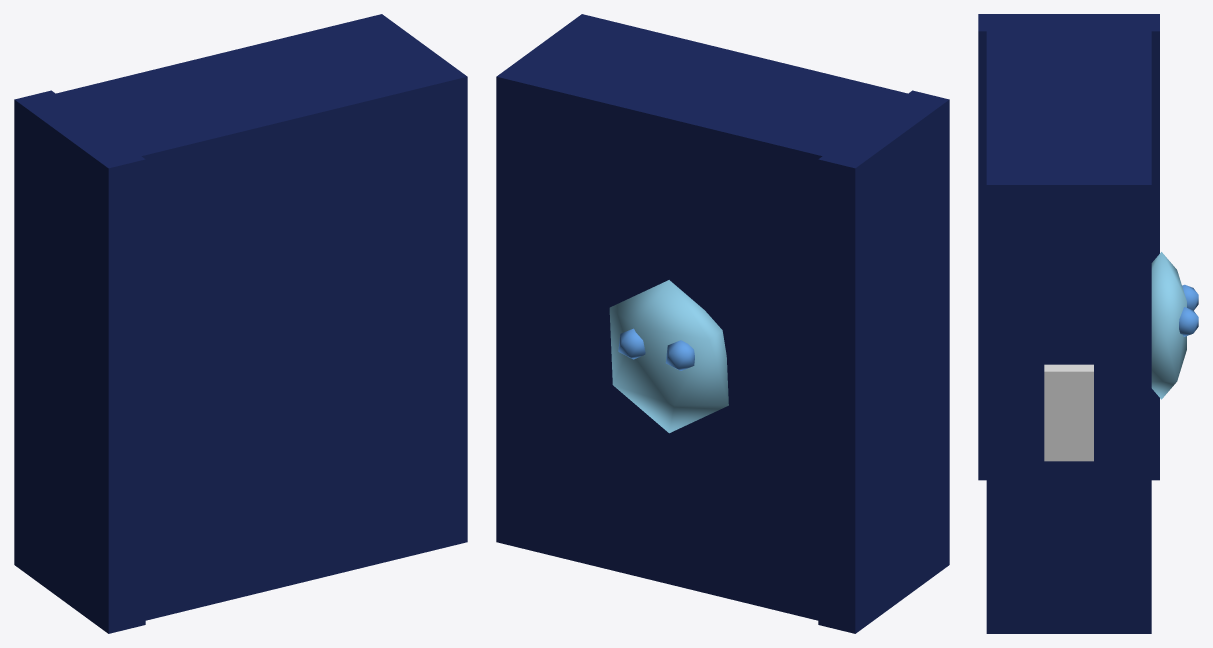
The model's file is lunar_flare.glb.
3 renders of one model, left to right at view 1: azimuth 30°, elevation 25°; view 2: azimuth 150°, elevation 25°; view 3: azimuth 270°, elevation 25°, orthographic. The views are drawn at different scales.
Parts seen in each view (by area): view 1: lunar_flare_v0; view 2: lunar_flare_v0; view 3: lunar_flare_v0.
Part boxes in pixels (x1,y1,x2,y2): lunar_flare_v0: [14, 14, 467, 633]; lunar_flare_v0: [496, 14, 949, 633]; lunar_flare_v0: [978, 14, 1198, 633].
Size of the model in its own units: 0.255 by 0.3 by 0.1335.
